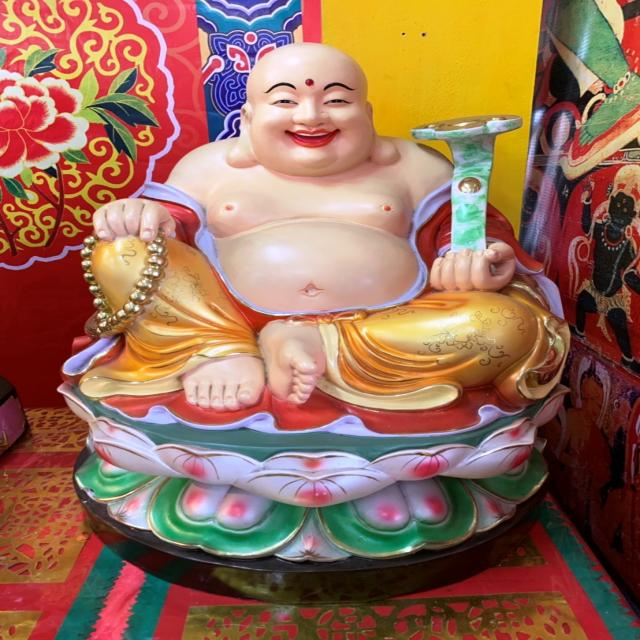Smiling Buddha: (84, 47, 536, 410)
